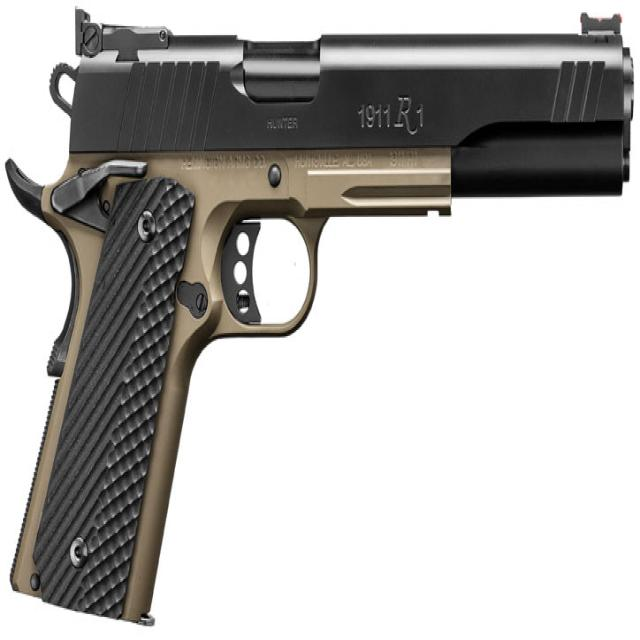HandGun: (5, 8, 636, 628)
